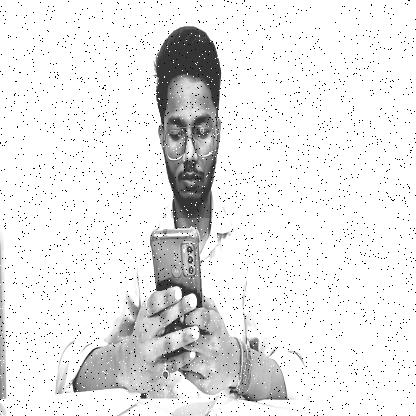Normal: (153, 27, 225, 218)
